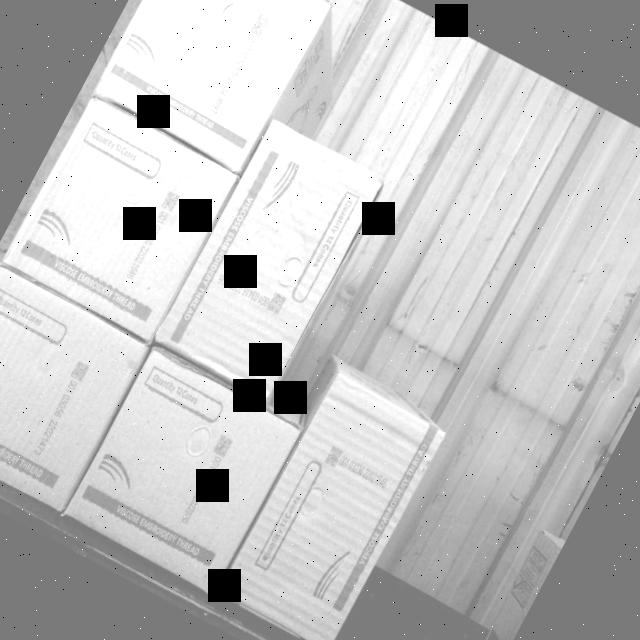box: (157, 123, 386, 399), (218, 372, 448, 640), (62, 348, 302, 596), (2, 99, 238, 340), (94, 0, 335, 169), (0, 263, 151, 515)
